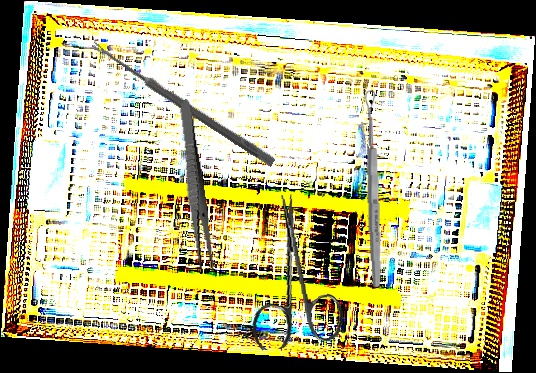Dressing Forceps: (173, 98, 217, 276)
Iris Scissors: (239, 189, 346, 352)
Surgical Spoon: (89, 40, 277, 167), (363, 89, 384, 289)
